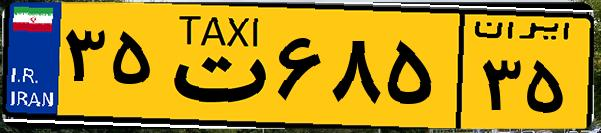3: (57, 26, 110, 100), (475, 38, 525, 113)
5: (385, 28, 445, 110), (525, 38, 570, 115), (110, 28, 158, 98)
6: (270, 28, 330, 110)
8: (330, 28, 385, 110)
ت: (158, 12, 270, 120)
